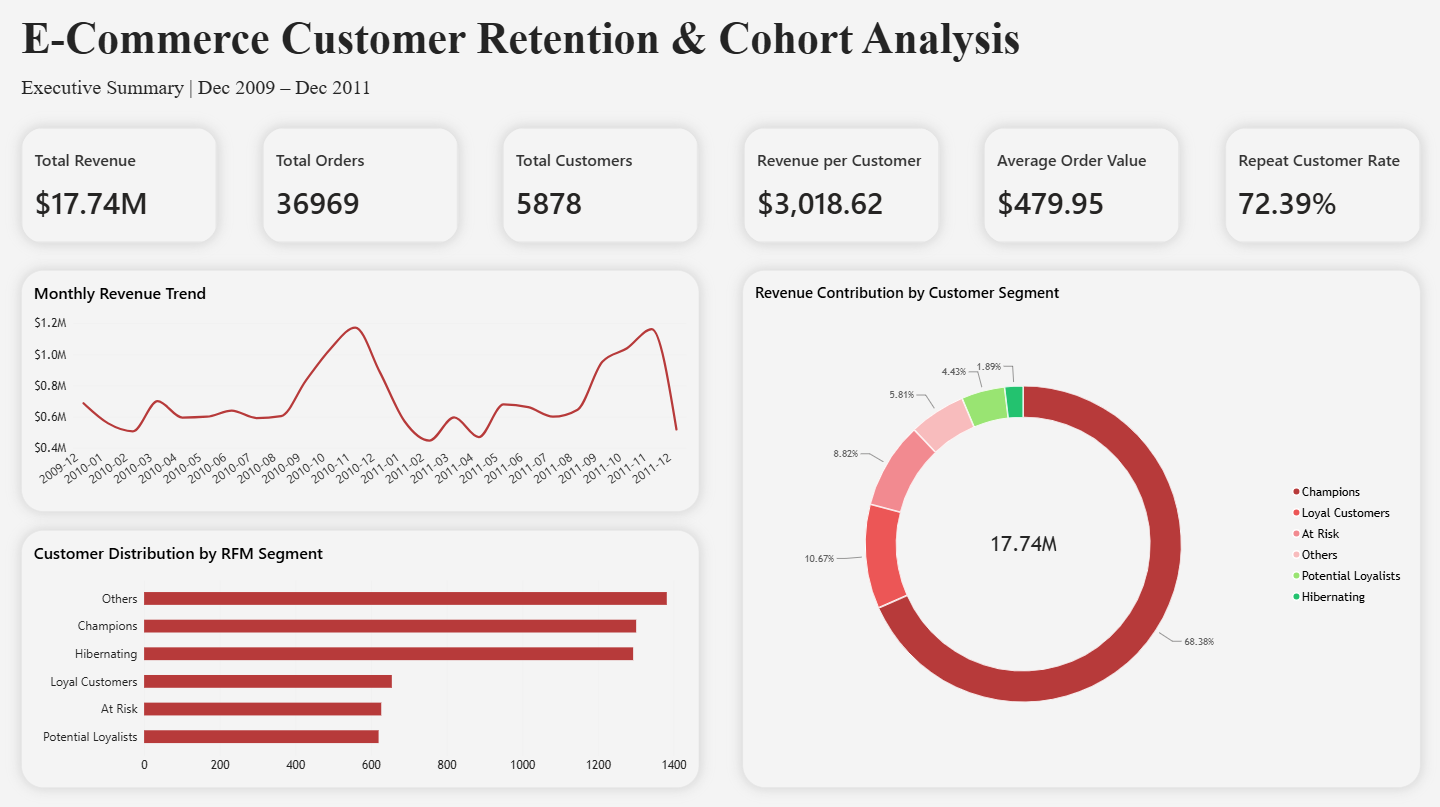

Layout of this report page (visuals, bound fields, positions):
{"tool":"powerbi","page":{"name":"Executive Summary","canvas":[1920,1080],"ordinal":0},"visuals":[{"type":"textbox","box":[28,18,1866,124],"z":0},{"type":"cardVisual","fields":{"Data":["clean_transactions.Total Revenue"]},"box":[28,170,261.7,154],"z":0,"group":"g1"},{"type":"group","id":"g1","title":"Group 1","box":[28,170,1866,154],"z":1000},{"type":"cardVisual","fields":{"Data":["clean_transactions.Total Orders"]},"box":[348.9,170,261.7,154],"z":1000,"group":"g1"},{"type":"cardVisual","fields":{"Data":["clean_transactions.Total Customers"]},"box":[669.7,170,261.7,154],"z":2000,"group":"g1"},{"type":"lineChart","title":"Monthly Revenue Trend","fields":{"Category":["DateTable.Year Month"],"Y":["clean_transactions.Total Revenue"]},"box":[28,360,904,322],"z":2000},{"type":"cardVisual","fields":{"Data":["clean_transactions.Revenue per Customer"]},"box":[990.6,170,261.7,154],"z":3000,"group":"g1"},{"type":"donutChart","title":"Revenue Contribution by Customer Segment","fields":{"Category":["customer_segments.customer_segment"],"Y":["customer_segments.Segment Revenue"]},"box":[990,360,904,690],"z":3000},{"type":"cardVisual","fields":{"Data":["clean_transactions.Average Order Value"]},"box":[1311.4,170,261.7,154],"z":4000,"group":"g1"},{"type":"clusteredBarChart","title":"Customer Distribution by RFM Segment","fields":{"Category":["customer_segments.customer_segment"],"Y":["customer_segments.Customers by Segment"]},"box":[28,706,904,344],"z":4000},{"type":"cardVisual","fields":{"Data":["customer_summary.Repeat Customer %"]},"box":[1632.3,170,261.7,154],"z":5000,"group":"g1"}]}

Visuals, with their boxes in screenshot pixels (x1, y1, x2, y2), scaled from the page's 1920x1080 canvas onto the 1440x807 screenshot:
textbox: crop(21, 13, 1420, 106)
cardVisual - clean_transactions.Total Revenue: crop(21, 127, 217, 242)
"Group 1" group: crop(21, 127, 1420, 242)
cardVisual - clean_transactions.Total Orders: crop(262, 127, 458, 242)
cardVisual - clean_transactions.Total Customers: crop(502, 127, 699, 242)
"Monthly Revenue Trend" lineChart: crop(21, 269, 699, 510)
cardVisual - clean_transactions.Revenue per Customer: crop(743, 127, 939, 242)
"Revenue Contribution by Customer Segment" donutChart: crop(742, 269, 1420, 785)
cardVisual - clean_transactions.Average Order Value: crop(984, 127, 1180, 242)
"Customer Distribution by RFM Segment" clusteredBarChart: crop(21, 528, 699, 785)
cardVisual - customer_summary.Repeat Customer %: crop(1224, 127, 1420, 242)
